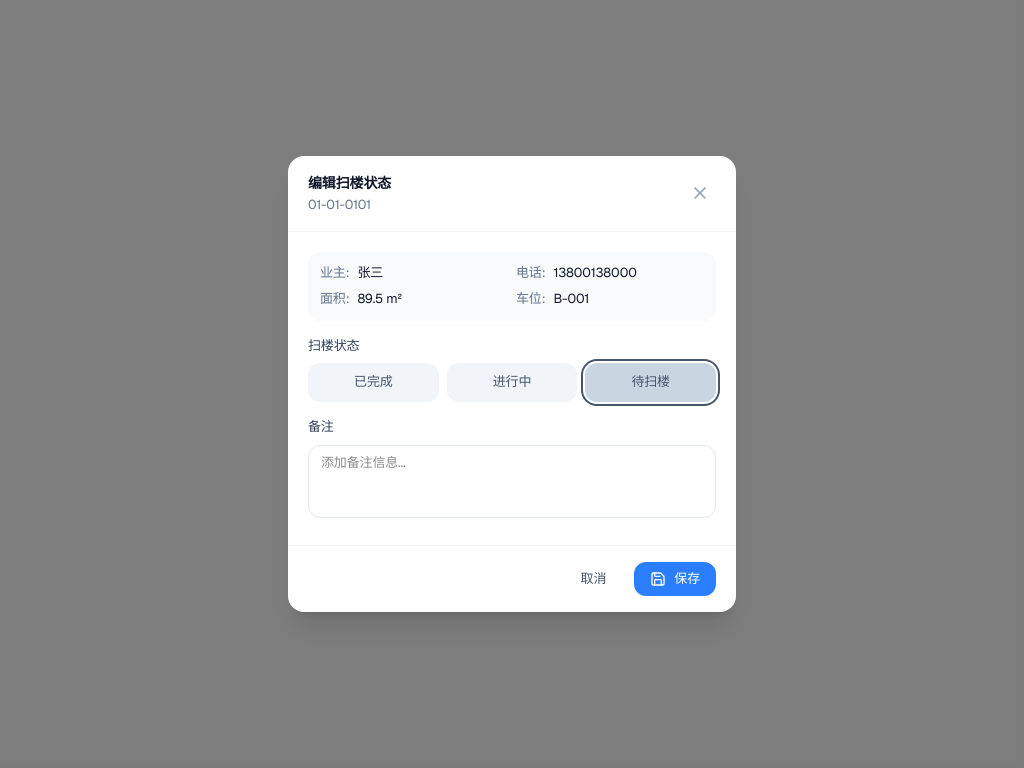
it: SweepEditModal › 保存失败应该显示错误信息
Click the button "保存" at (675, 579), box [634,562,716,596]
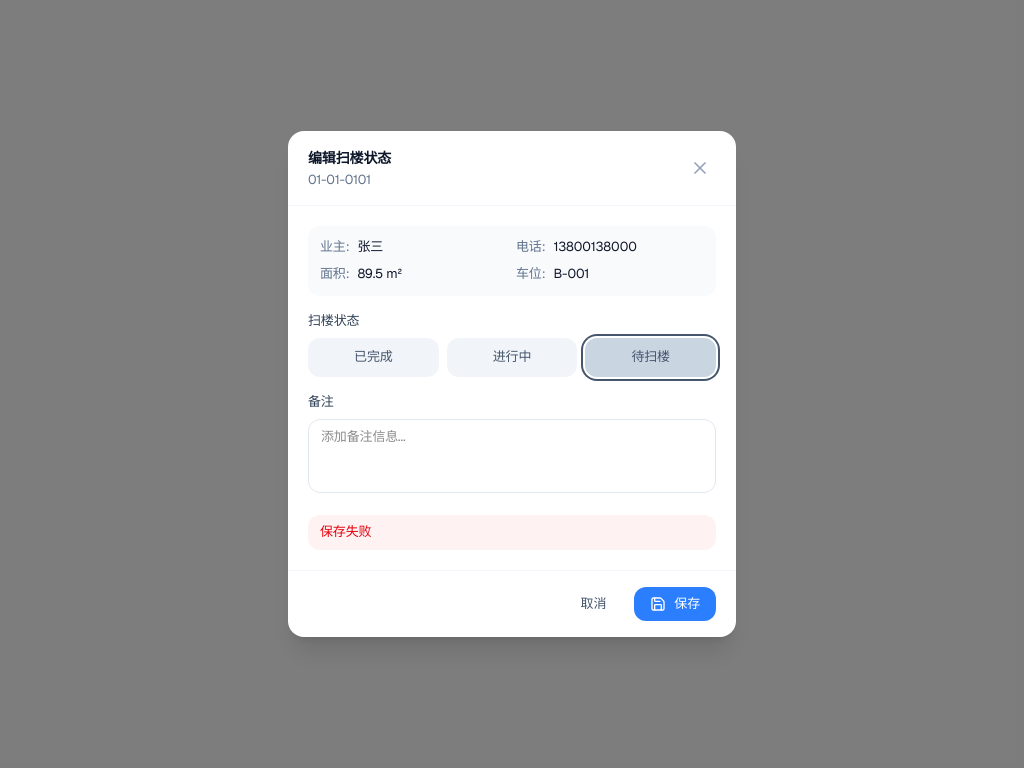
Expected: the text "保存失败" is shown, [308,515,716,550]
